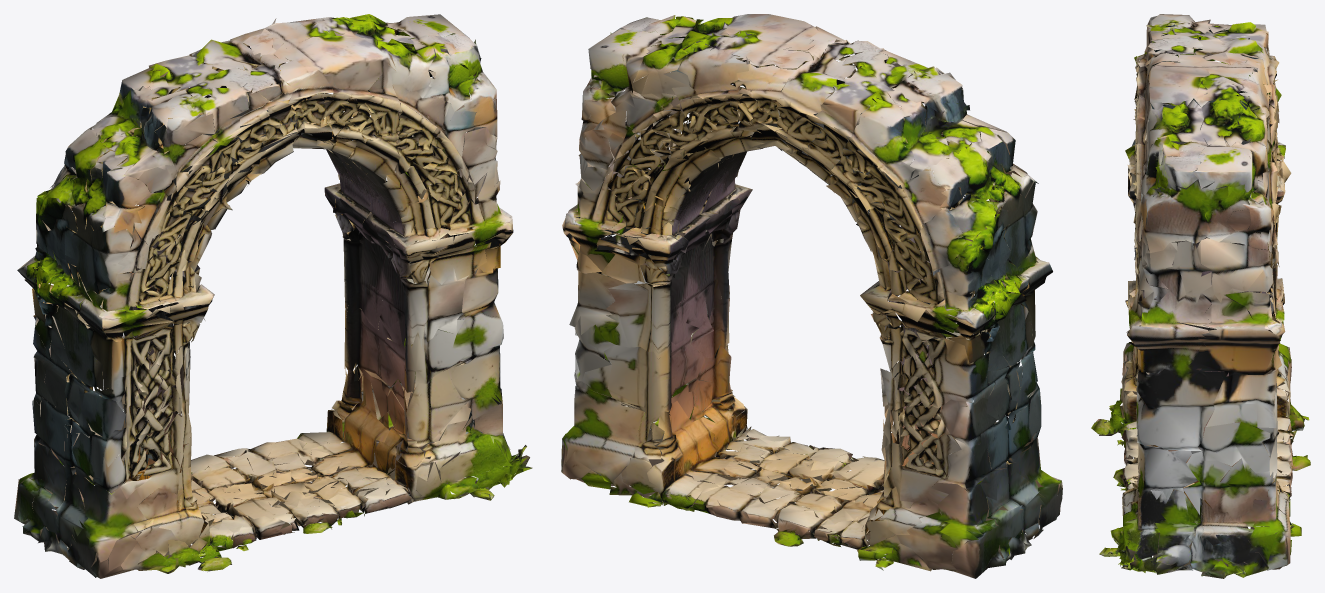
The model's file is Ancient_Archway_town.glb.
3 renders of one model, left to right at view 1: azimuth 30°, elevation 25°; view 2: azimuth 150°, elevation 25°; view 3: azimuth 270°, elevation 25°, orthographic. The views are drawn at different scales.
Parts seen in each view (by area): view 1: Ancient_Archway; view 2: Ancient_Archway; view 3: Ancient_Archway.
Part boxes in pixels (x1,y1,x2,y2): Ancient_Archway: [14, 14, 532, 578]; Ancient_Archway: [561, 14, 1062, 578]; Ancient_Archway: [1091, 14, 1310, 578].
Bounding box in the file's own units: 1.91 × 1.88 × 0.8642.
1 material, 1 textured.
